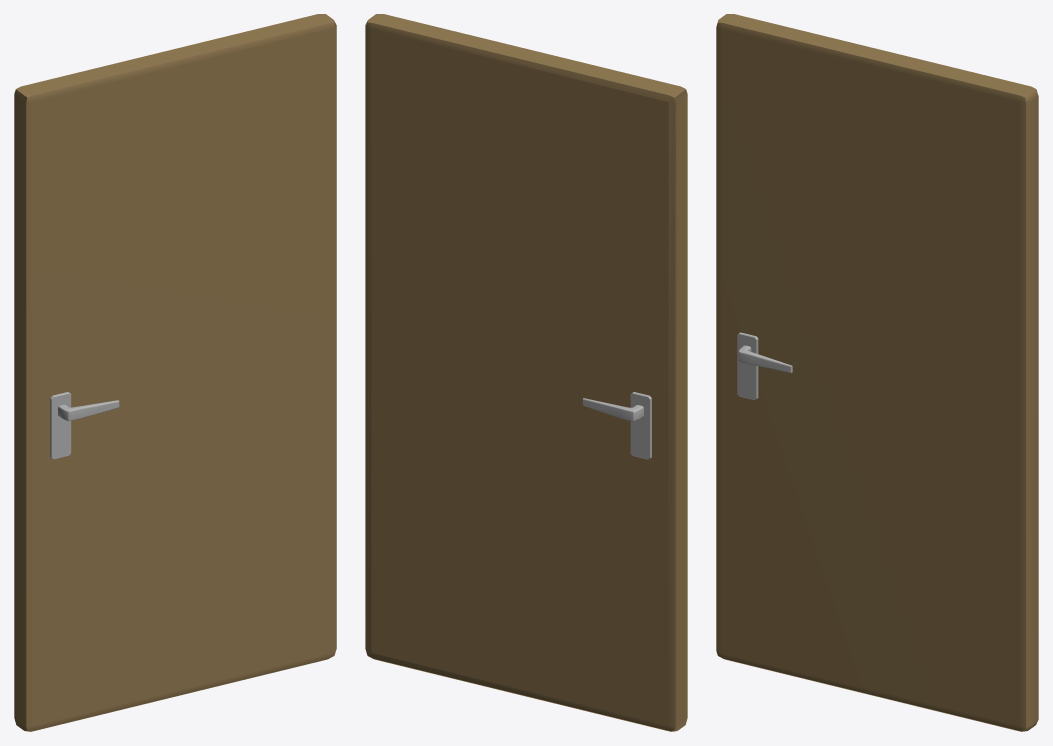
File: Door-SimpleWithHandle.fbx
3 views of the same model, side by side, from view 1: azimuth 30°, elevation 25°; view 2: azimuth 150°, elevation 25°; view 3: azimuth 330°, elevation 25° (orthographic).
Visible parts, largest first — view 1: handle27; view 2: handle27; view 3: handle27.
Part boxes in pixels (box(x1,y1,x2,y2)): handle27: box(14, 14, 336, 731); handle27: box(365, 14, 687, 731); handle27: box(716, 14, 1038, 731).
Bounding box in the file's own units: 1.45 × 2.84 × 0.2648.
